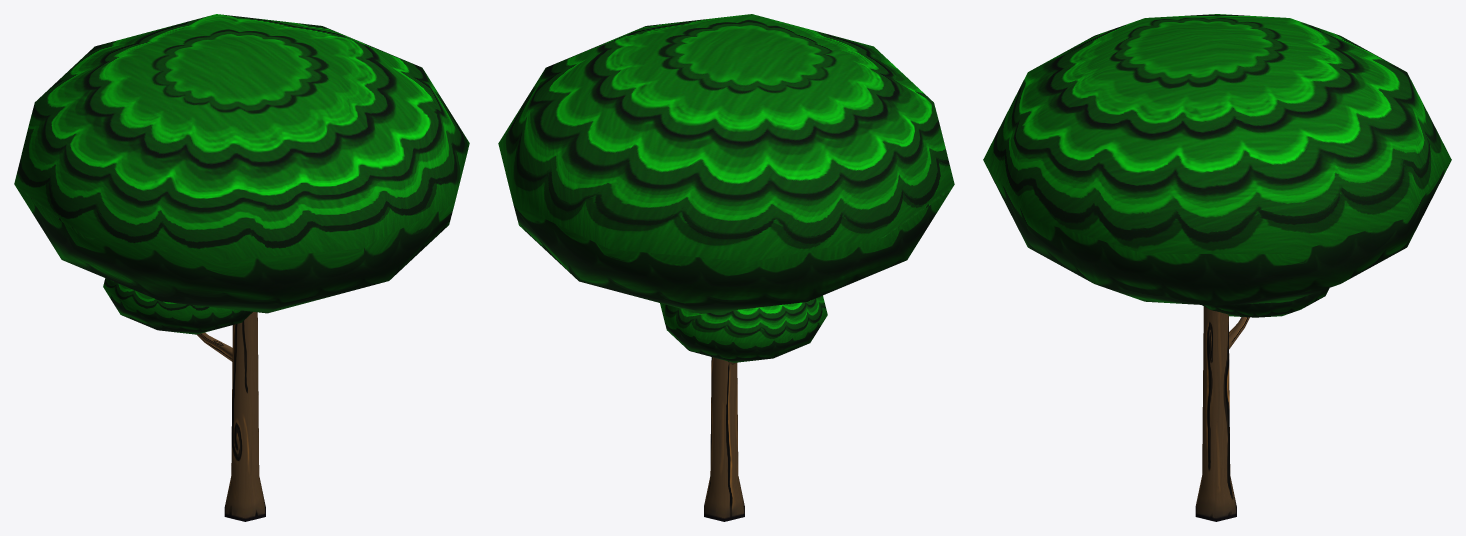
The model's file is Arvore1.FBX.
The picture shows the model from 3 angles, left to right: view 1: azimuth 30°, elevation 25°; view 2: azimuth 150°, elevation 25°; view 3: azimuth 270°, elevation 25°; orthographic projection.
Visible parts, largest first — view 1: Object002, Cylinder001; view 2: Object002, Cylinder001; view 3: Object002, Cylinder001.
Part boxes in pixels (x1,y1,x2,y2): Object002: (14, 14, 469, 334); Cylinder001: (197, 312, 265, 521); Object002: (498, 14, 954, 362); Cylinder001: (704, 357, 744, 521); Object002: (983, 14, 1451, 317); Cylinder001: (1195, 306, 1249, 521).
Bounding box in the file's own units: 1580 × 1830 × 1662.
